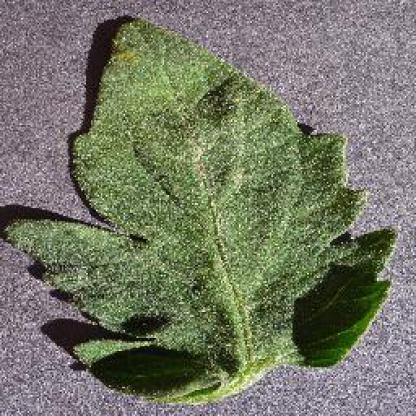good leaf: (67, 23, 370, 350)
